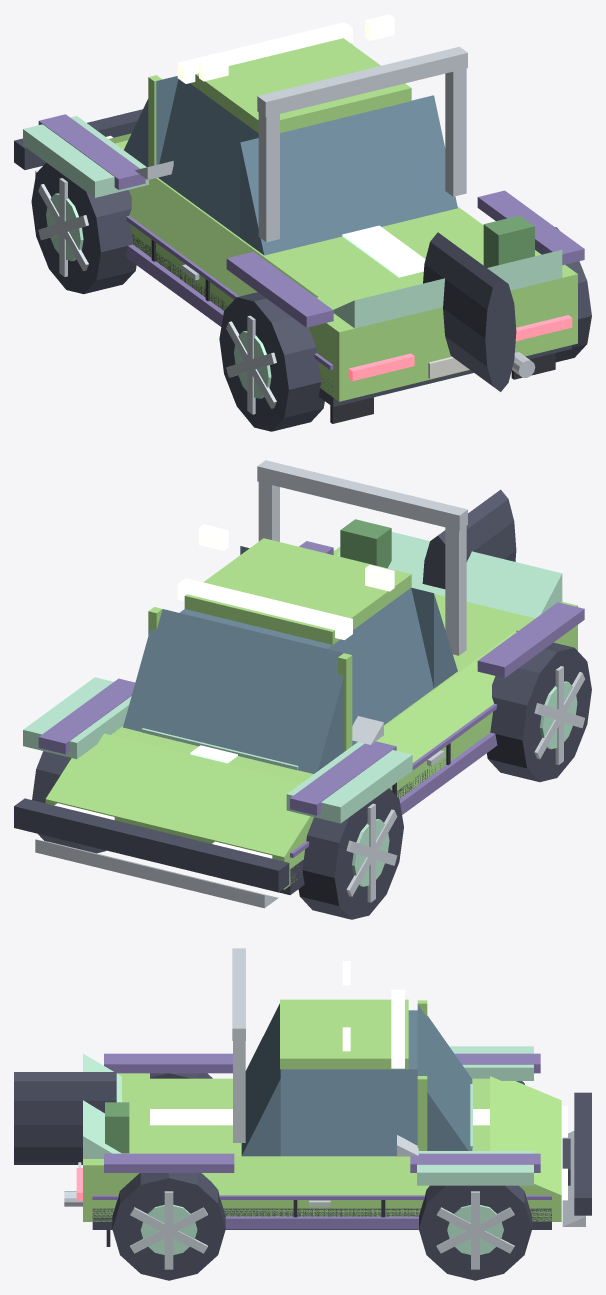
File: basalt_bouncer.glb
The picture shows the model from 3 angles, top to bottom: view 1: azimuth 30°, elevation 25°; view 2: azimuth 150°, elevation 25°; view 3: azimuth 270°, elevation 25°; orthographic projection. The views are drawn at different scales.
Parts seen in each view (by area): view 1: RearWindow.174, Roof.274, Tail.074, CabinSideL.071, SpareTyre.023, Wheel_RL.234, BodyUpper.071, Wheel_FL.234, ShoulderL.071, Body.274, RollBar.067, Ducktail.054 (+29 smaller); view 2: Windshield.174, Nose.071, Roof.274, BashBar.067, Wheel_RL.234, CabinSideL.071, Wheel_FL.234, Ducktail.054, ShoulderL.071, RollBar.067, SpareTyre.023, Fender-1.067 (+29 smaller); view 3: CabinSideR.071, Roof.274, ShoulderR.071, SpareTyre.023, Wheel_RR.234, BodyUpper.071, Wheel_FR.234, Nose.071, Windshield.174, Body.274, RearWindow.174, Tail.074 (+27 smaller).
Part boxes in pixels (bbox=[...]): RearWindow.174: bbox=[240, 95, 457, 255]; Roof.274: bbox=[190, 38, 411, 133]; Tail.074: bbox=[308, 250, 577, 369]; CabinSideL.071: bbox=[158, 79, 258, 237]; SpareTyre.023: bbox=[423, 232, 516, 391]; Wheel_RL.234: bbox=[219, 292, 324, 431]; BodyUpper.071: bbox=[115, 140, 483, 296]; Wheel_FL.234: bbox=[31, 162, 136, 294]; ShoulderL.071: bbox=[129, 178, 318, 297]; Body.274: bbox=[45, 162, 577, 401]; RollBar.067: bbox=[257, 46, 467, 117]; Ducktail.054: bbox=[333, 250, 562, 328]; Windshield.174: bbox=[123, 609, 343, 773]; Nose.071: bbox=[46, 733, 313, 857]; Roof.274: bbox=[184, 538, 411, 644]; BashBar.067: bbox=[14, 798, 289, 892]; Wheel_RL.234: bbox=[487, 642, 591, 782]; CabinSideL.071: bbox=[328, 588, 433, 745]; Wheel_FL.234: bbox=[298, 788, 403, 919]; Ducktail.054: bbox=[337, 532, 562, 618]; ShoulderL.071: bbox=[376, 631, 516, 762]; RollBar.067: bbox=[257, 460, 467, 530]; SpareTyre.023: bbox=[422, 489, 516, 589]; Fender-1.067: bbox=[286, 742, 412, 823]; CabinSideR.071: bbox=[280, 1069, 417, 1156]; Roof.274: bbox=[280, 999, 408, 1069]; ShoulderR.071: bbox=[202, 1157, 429, 1195]; SpareTyre.023: bbox=[14, 1072, 116, 1164]; Wheel_RR.234: bbox=[112, 1173, 225, 1280]; BodyUpper.071: bbox=[150, 1078, 489, 1156]; Wheel_FR.234: bbox=[419, 1185, 532, 1280]; Nose.071: bbox=[490, 1076, 561, 1195]; Windshield.174: bbox=[417, 1004, 472, 1150]; Body.274: bbox=[83, 1195, 561, 1221]; RearWindow.174: bbox=[241, 1003, 280, 1156]; Tail.074: bbox=[83, 1073, 149, 1195].
Bounding box in the file's own units: 3.06 × 2.62 × 5.92.
